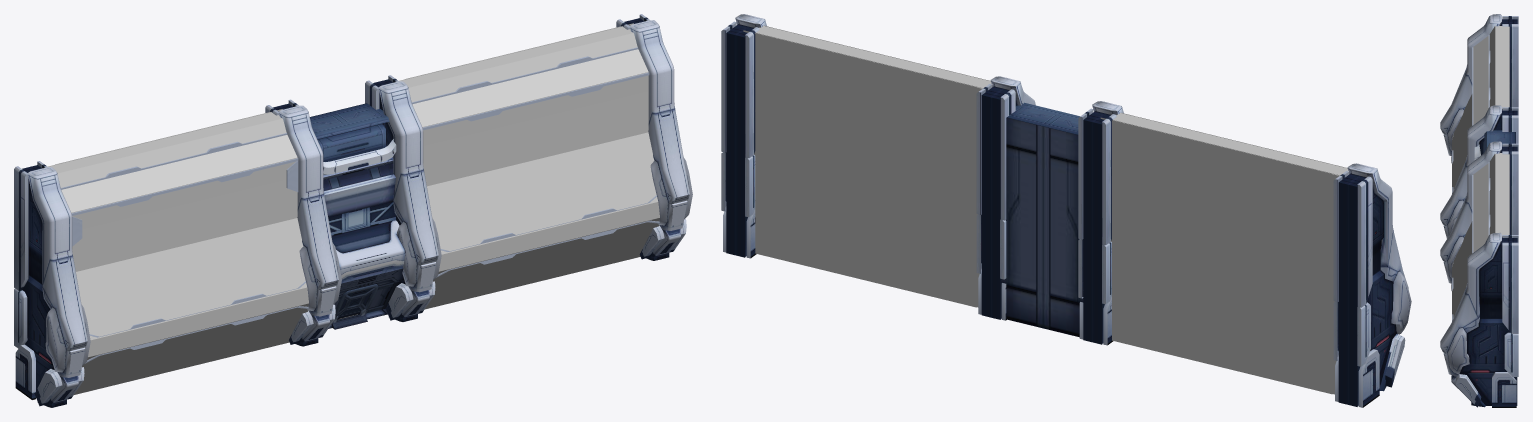
Rendered from Scece_01_waichuang.FBX.
The picture shows the model from 3 angles, left to right: view 1: azimuth 30°, elevation 25°; view 2: azimuth 150°, elevation 25°; view 3: azimuth 270°, elevation 25°; orthographic projection. The views are drawn at different scales.
Visible parts, largest first — view 1: Object001, Scece_01_waichuang; view 2: Object001, Scece_01_waichuang; view 3: Scece_01_waichuang, Object001.
Boxes of the visible parts, left/top/right/bottom form: Object001: left=48, top=23, right=659, bottom=394; Scece_01_waichuang: left=14, top=14, right=692, bottom=407; Object001: left=743, top=25, right=1349, bottom=394; Scece_01_waichuang: left=721, top=14, right=1411, bottom=407; Scece_01_waichuang: left=1440, top=14, right=1518, bottom=407; Object001: left=1452, top=26, right=1509, bottom=320.
Size of the model in its own units: 114 by 37.82 by 16.26.
